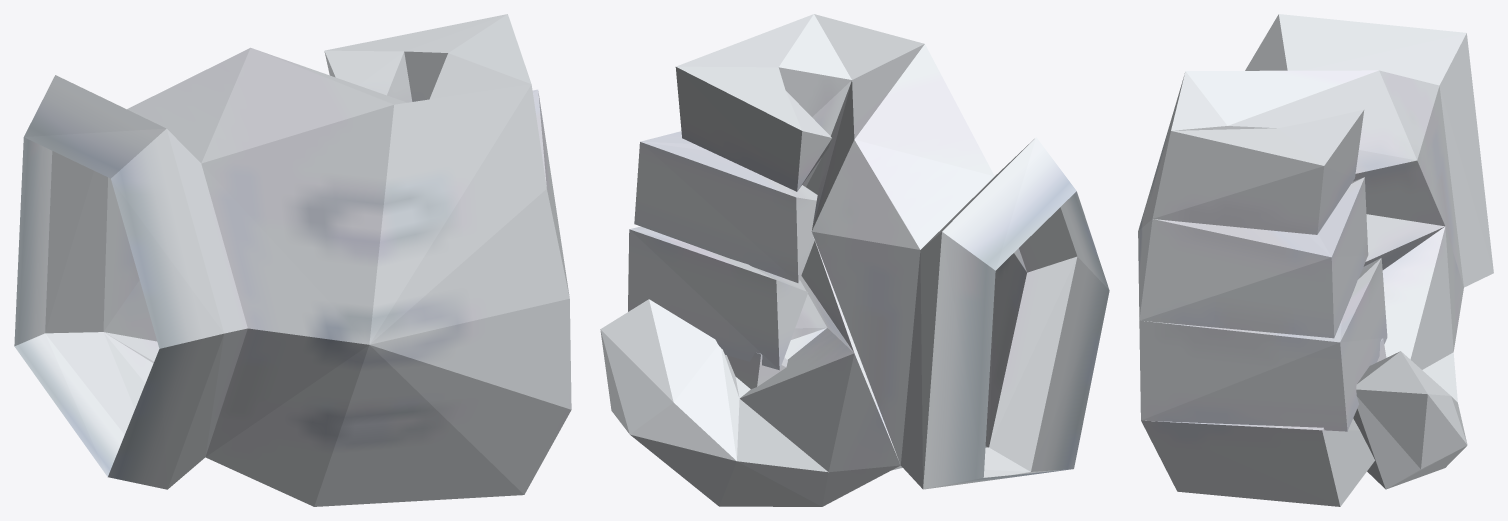
Rendered from ma_hnd3l.dae.
The picture shows the model from 3 angles, left to right: view 1: azimuth 30°, elevation 25°; view 2: azimuth 150°, elevation 25°; view 3: azimuth 270°, elevation 25°; orthographic projection. The views are drawn at different scales.
Visible parts, largest first — view 1: m0; view 2: m0; view 3: m0.
Part boxes in pixels (x1,y1,x2,y2): m0: [14, 14, 571, 506]; m0: [600, 14, 1109, 506]; m0: [1138, 14, 1493, 506].
Bounding box in the file's own units: 26.35 × 23.39 × 20.16.
